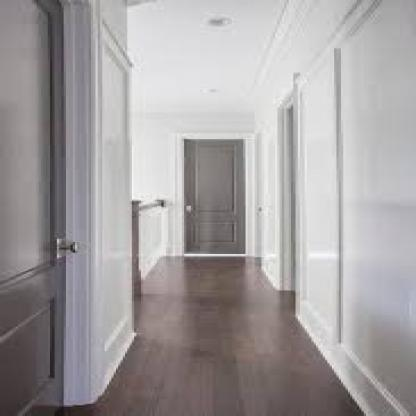door: (182, 139, 241, 256)
